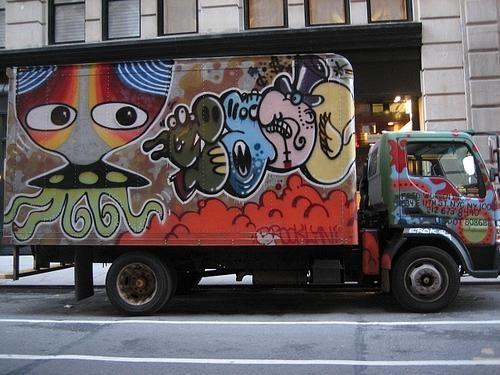truck: (2, 51, 500, 316)
